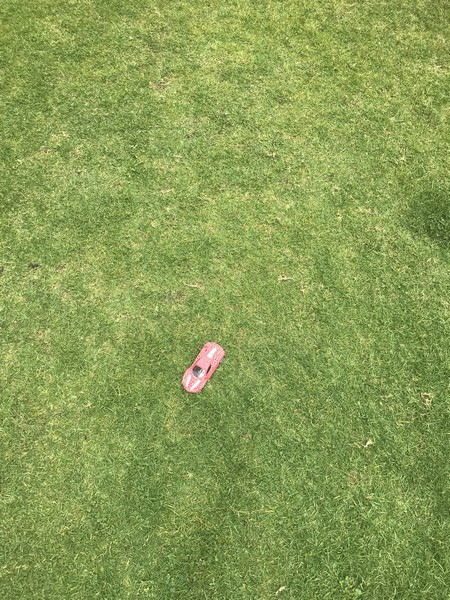RC: (180, 340, 229, 399)
